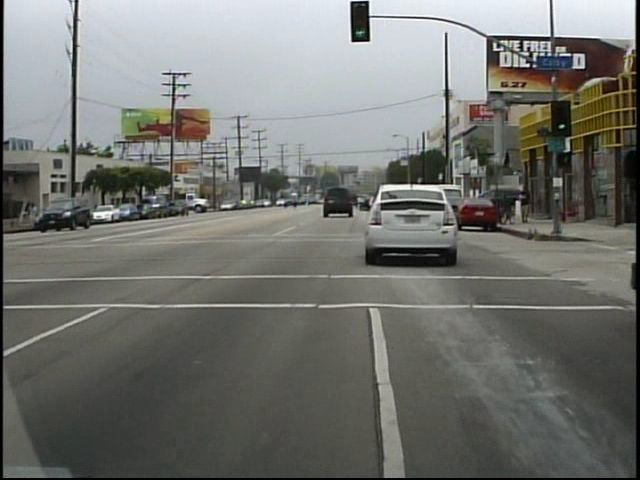person: (516, 180, 537, 230), (35, 199, 36, 229)
